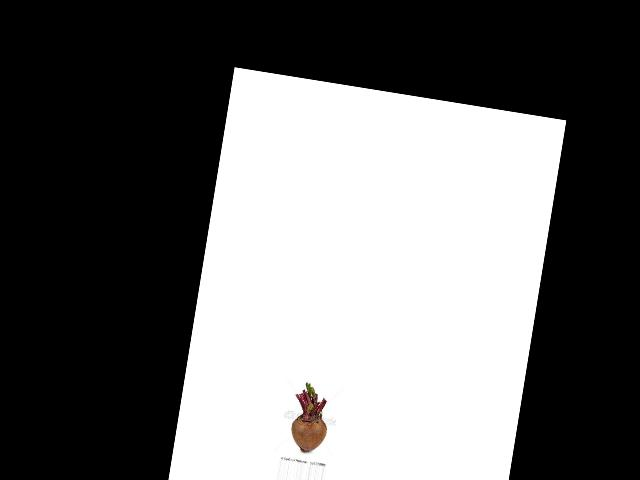beet: (287, 381, 334, 455)
